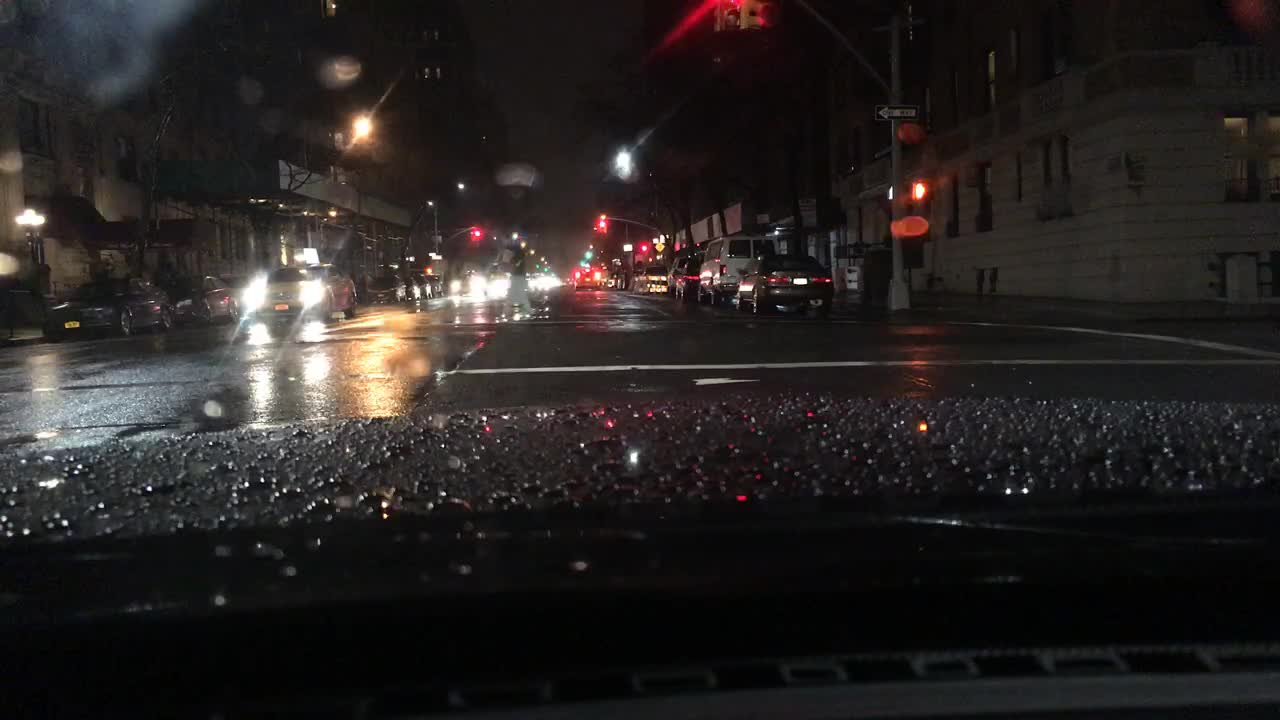car: (246, 245, 356, 327), (39, 277, 174, 341), (732, 251, 835, 317), (692, 233, 773, 304), (165, 273, 241, 327), (222, 270, 260, 312), (675, 253, 705, 300), (364, 273, 408, 304), (447, 268, 484, 297), (663, 251, 685, 293), (572, 263, 604, 288), (396, 275, 423, 302), (410, 268, 432, 300), (643, 273, 668, 293), (631, 273, 648, 297), (607, 270, 627, 290), (622, 266, 636, 288), (428, 280, 444, 297), (604, 272, 617, 287)
traffic light: (724, 0, 746, 29), (908, 175, 928, 201), (749, 0, 766, 30), (712, 0, 720, 34), (471, 226, 482, 243), (884, 184, 894, 201), (638, 239, 649, 253), (597, 218, 606, 233), (422, 265, 435, 275), (584, 245, 592, 260)
traffic sign: (876, 103, 921, 118), (619, 239, 633, 253), (427, 250, 444, 260), (653, 239, 665, 253)
truck: (484, 243, 530, 300)
